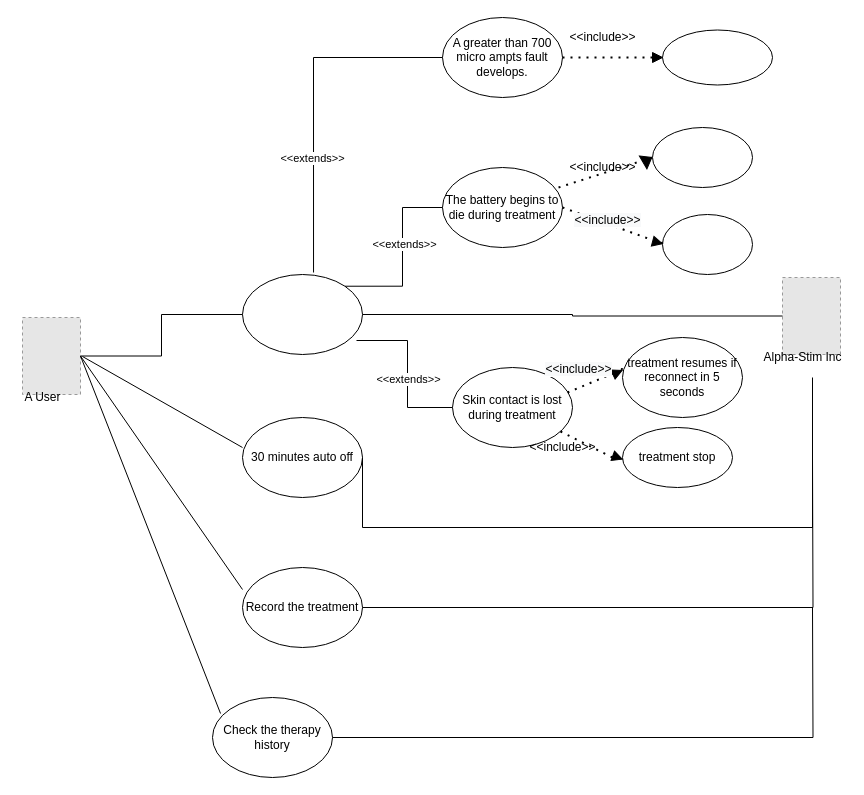
Image size: 864x795. Some labels were removed from this diagram. Grey dashed boxes stand in for pictures. The shapes that lost their labels are listed below. From the top down, each one's centre as x and y in pixels, then its label:
At (717,57): "the device automatically and permanently disabled".
At (702,157): "warning when 5 percent".
At (707,244): "shut down when 2 percent".
At (302,314): "A user starts a treatment".
